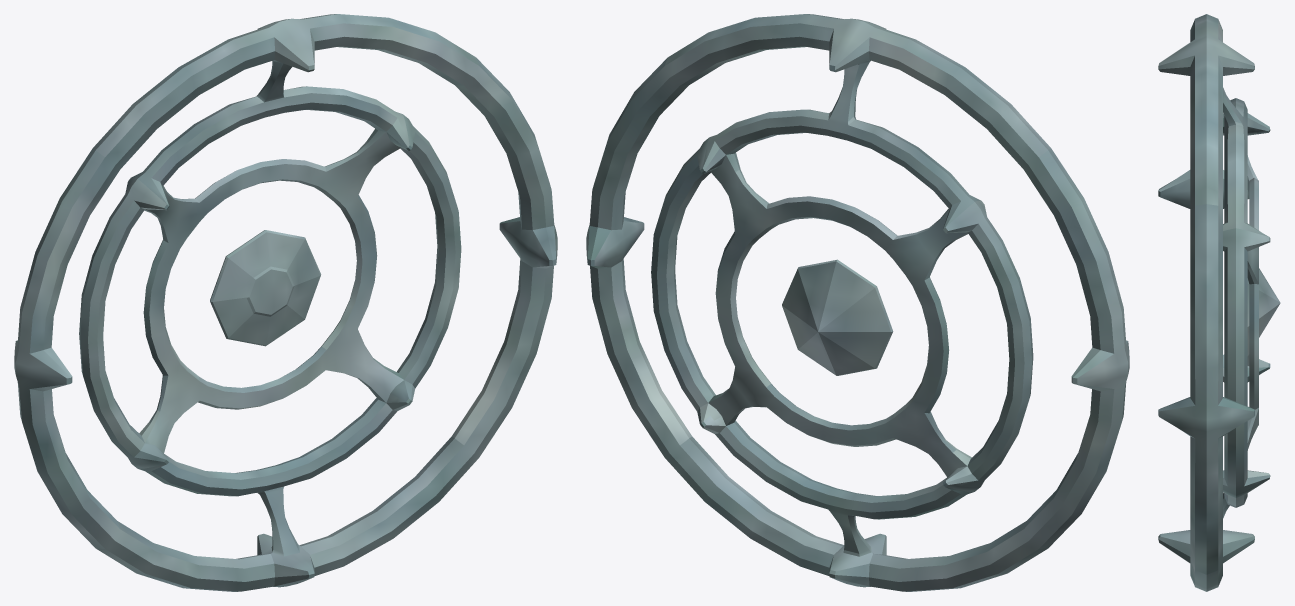
Rendered from CosmicContainer.obj.
The picture shows the model from 3 angles, left to right: view 1: azimuth 30°, elevation 25°; view 2: azimuth 150°, elevation 25°; view 3: azimuth 270°, elevation 25°; orthographic projection. The views are drawn at different scales.
Visible parts, largest first — view 1: CosmicCube; view 2: CosmicCube; view 3: CosmicCube.
Part boxes in pixels (<box>): CosmicCube: <box>14,14,557,591</box>; CosmicCube: <box>586,14,1129,591</box>; CosmicCube: <box>1158,14,1280,591</box>.
Size of the model in its own units: 2.13 by 2.13 by 0.4483.
